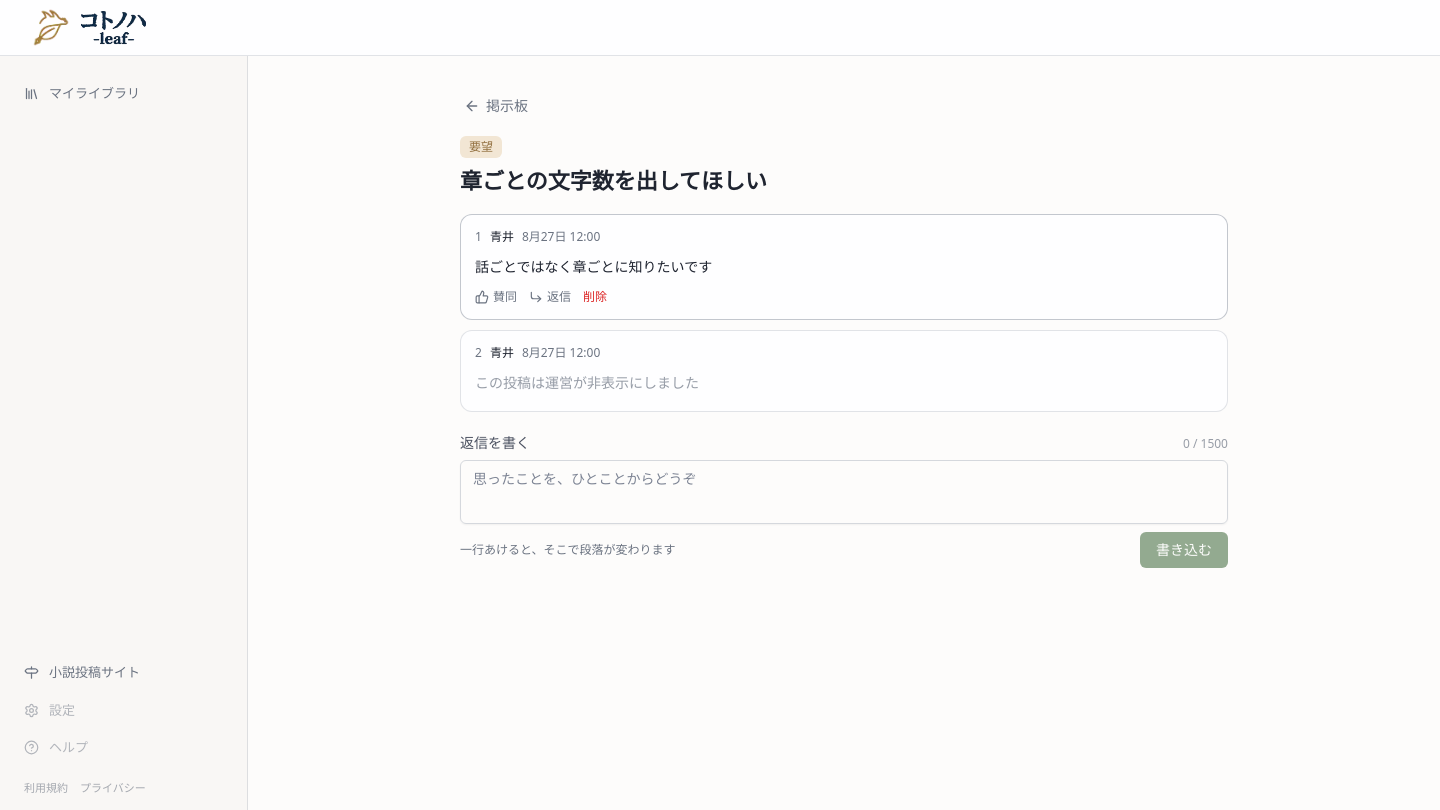
Test case: ThreadView — 自分のスレの削除（D-BOARD-DELETE） › 運営が伏せた返信しか無くても「返信は残る」側に倒す（行の有無で数える）
Click the button "削除": click(595, 297) [583,289,607,305]
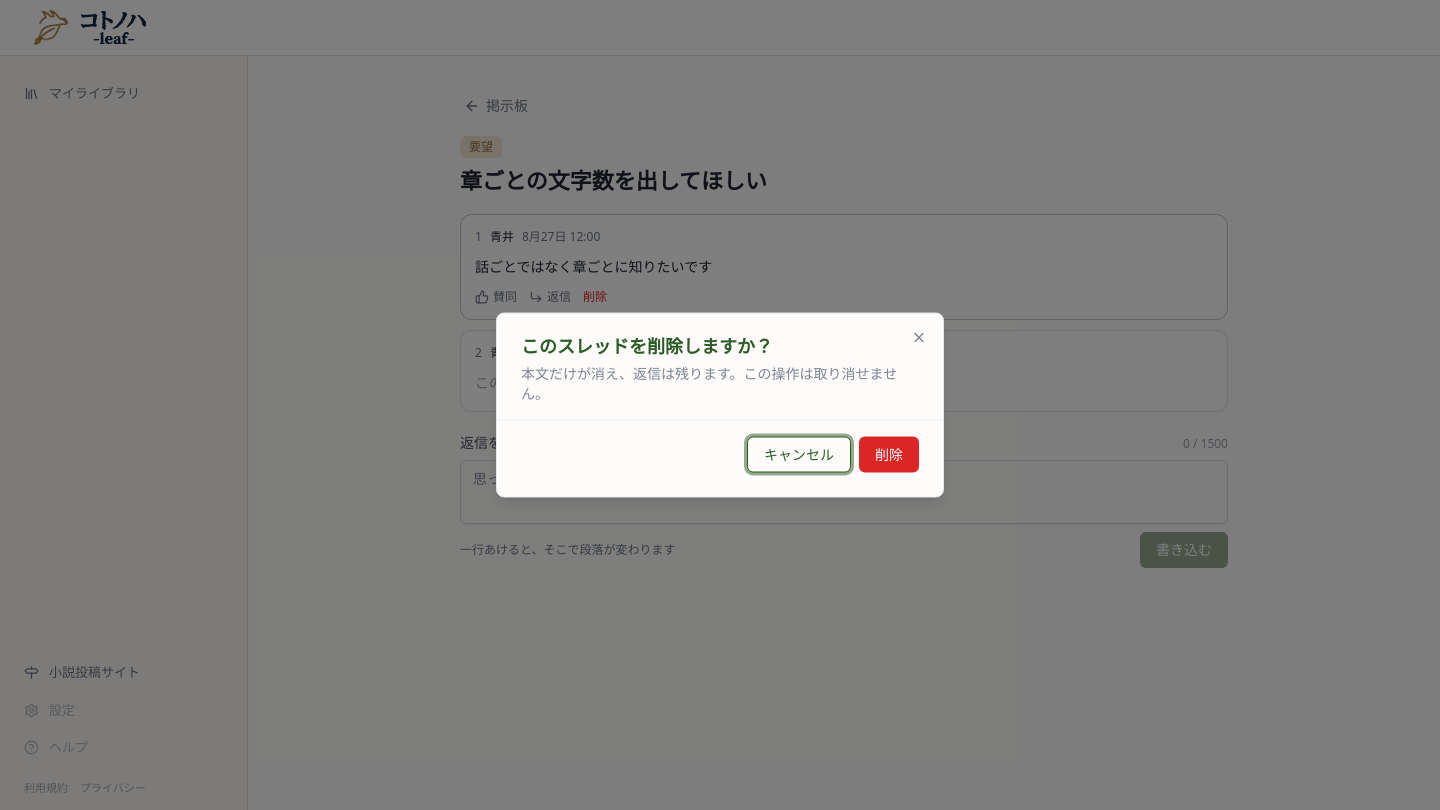
Check: the text "本文だけが消え、返信は残ります。この操作は取り消せません。" is shown, box [521,364,919,404]
